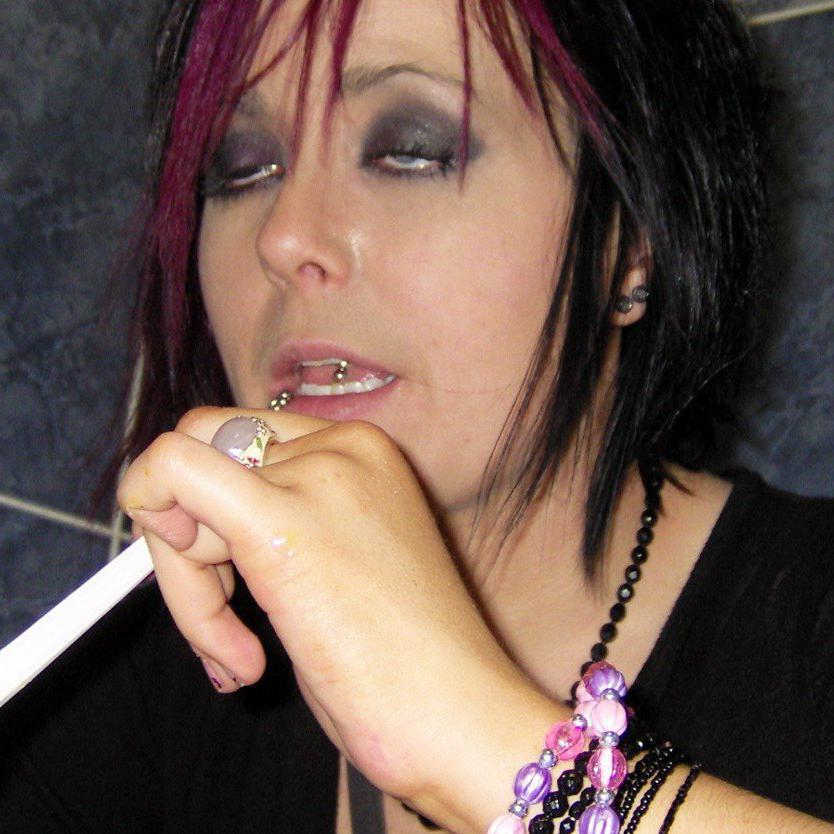Drunk: (196, 0, 564, 454)
